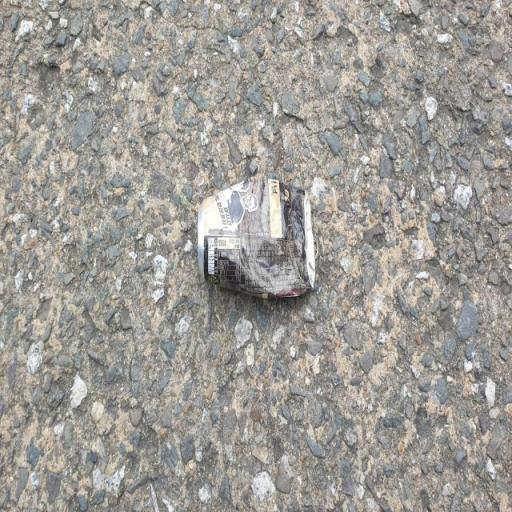metal: (187, 156, 372, 358)
